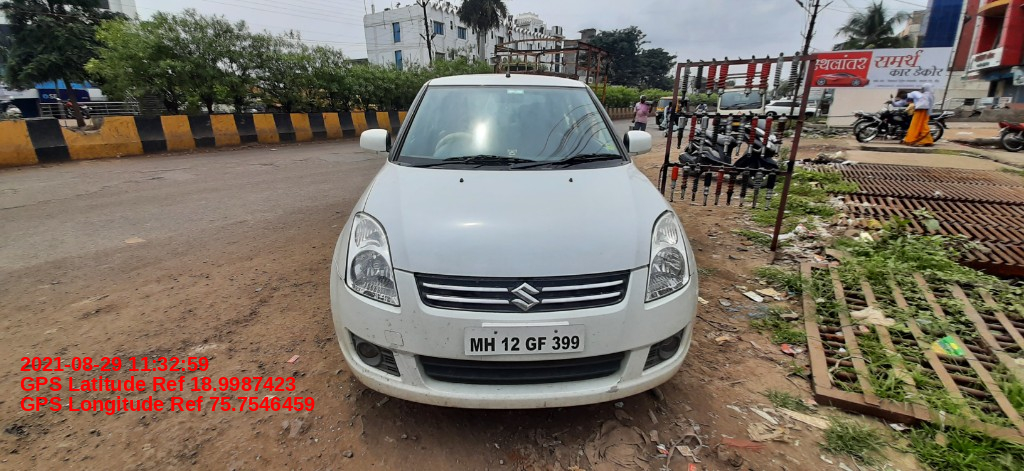Scratched: (602, 377, 624, 394), (442, 396, 455, 408), (389, 341, 400, 351), (541, 400, 552, 409)
